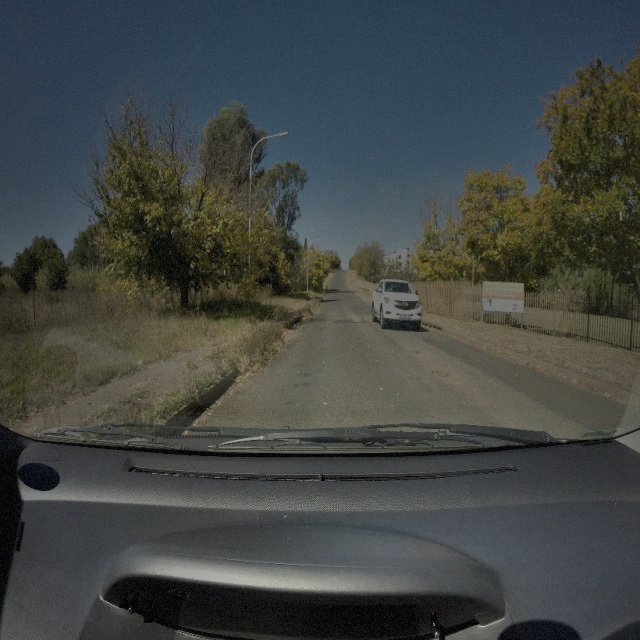pothole: (429, 366, 450, 378), (405, 347, 421, 356)
